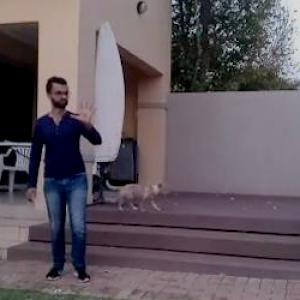follow_hand: (70, 92, 100, 128)
